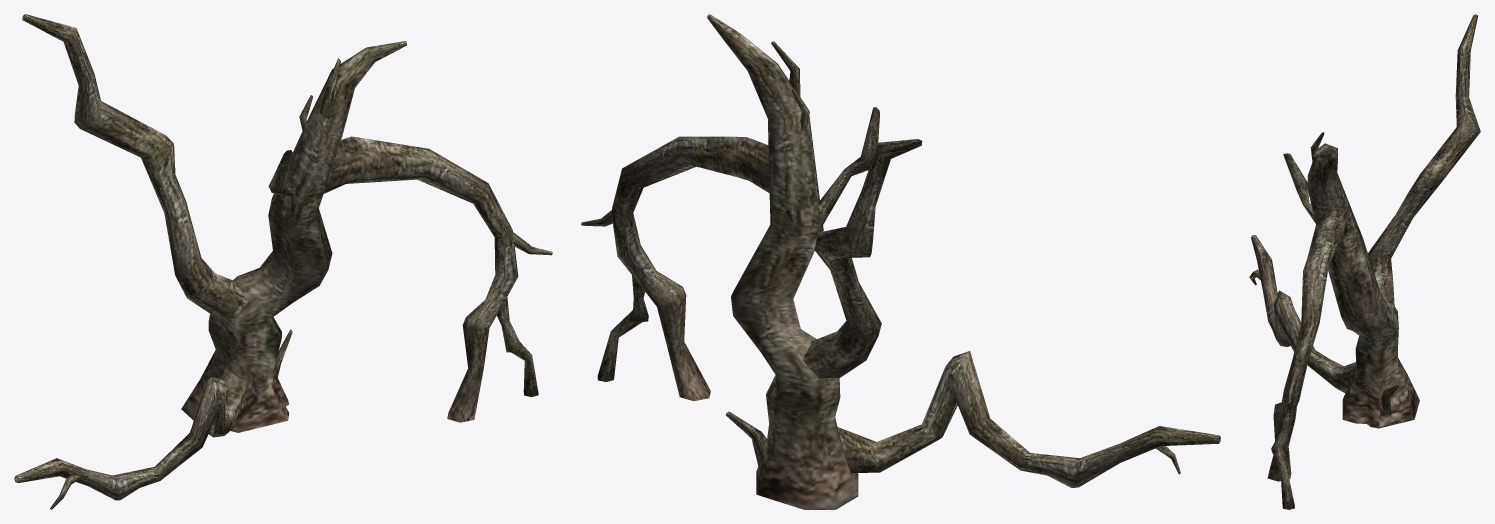
The model's file is deadwood_08.fbx.
The picture shows the model from 3 angles, left to right: view 1: azimuth 30°, elevation 25°; view 2: azimuth 150°, elevation 25°; view 3: azimuth 270°, elevation 25°; orthographic projection. The views are drawn at different scales.
Parts seen in each view (by area): view 1: deadwood_08; view 2: deadwood_08; view 3: deadwood_08.
Part boxes in pixels (box(x1,y1,x2,y2)): deadwood_08: box(14, 14, 552, 509); deadwood_08: box(581, 14, 1220, 509); deadwood_08: box(1249, 14, 1480, 509).
Size of the model in its own units: 22.42 by 15.16 by 9.61.
